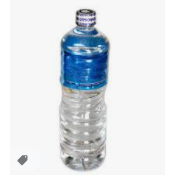Bottle: (61, 10, 109, 169)
